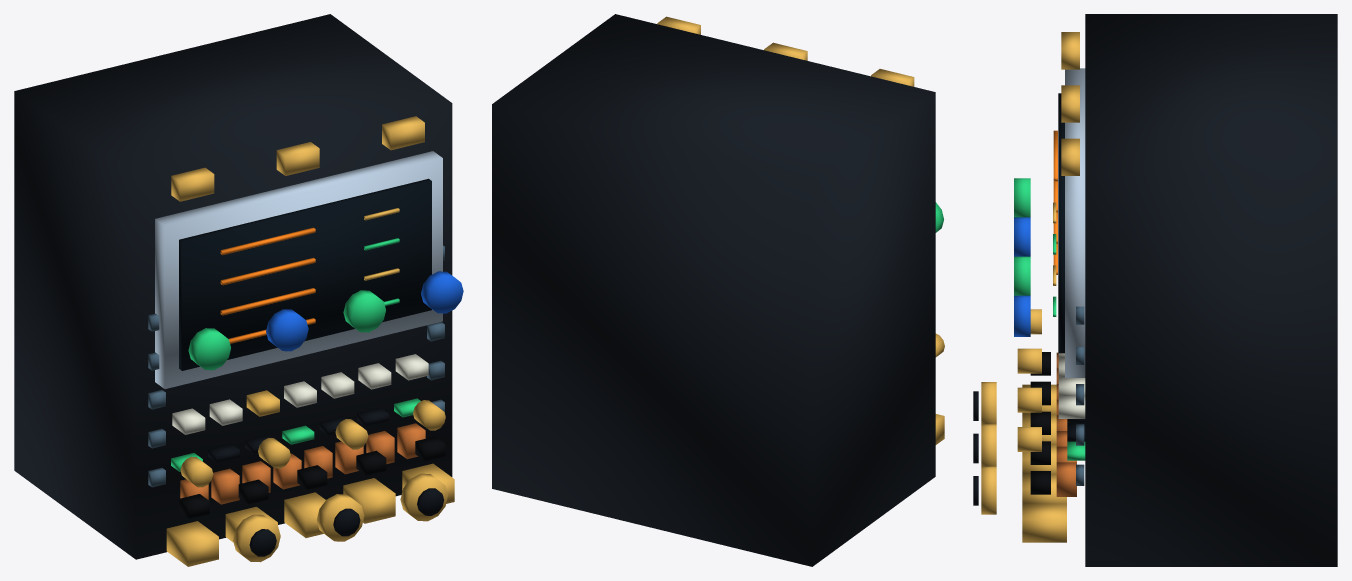
The model's file is 67_L93_VacuumVentAndPurgePanel.fbx.
3 renders of one model, left to right at view 1: azimuth 30°, elevation 25°; view 2: azimuth 150°, elevation 25°; view 3: azimuth 270°, elevation 25°, orthographic. The views are drawn at different scales.
Visible parts, largest first — view 1: L92_VacuumVentAndPurgePanel_Part_0000, L92_VacuumVentAndPurgePanel_Part_0002, L92_VacuumVentAndPurgePanel_Part_0001, L92_VacuumVentAndPurgePanel_Part_0004, L92_VacuumVentAndPurgePanel_Part_0009, L92_VacuumVentAndPurgePanel_Part_0006, L92_VacuumVentAndPurgePanel_Part_0005, L92_VacuumVentAndPurgePanel_Part_0010, L92_VacuumVentAndPurgePanel_Part_0011, L92_VacuumVentAndPurgePanel_Part_0003, L92_VacuumVentAndPurgePanel_Part_0008, L92_VacuumVentAndPurgePanel_Part_0007 (+6 smaller); view 2: L92_VacuumVentAndPurgePanel_Part_0000, L92_VacuumVentAndPurgePanel_Part_0004; view 3: L92_VacuumVentAndPurgePanel_Part_0000, L92_VacuumVentAndPurgePanel_Part_0004, L92_VacuumVentAndPurgePanel_Part_0001, L92_VacuumVentAndPurgePanel_Part_0005, L92_VacuumVentAndPurgePanel_Part_0010, L92_VacuumVentAndPurgePanel_Part_0002, L92_VacuumVentAndPurgePanel_Part_0009, L92_VacuumVentAndPurgePanel_Part_0011, L92_VacuumVentAndPurgePanel_Part_0006, L92_VacuumVentAndPurgePanel_Part_0008, L92_VacuumVentAndPurgePanel_Part_0018, L92_VacuumVentAndPurgePanel_Part_0014 (+2 smaller).
Part boxes in pixels (<box>): L92_VacuumVentAndPurgePanel_Part_0000: <box>14,14,452,559</box>; L92_VacuumVentAndPurgePanel_Part_0002: <box>179,178,431,370</box>; L92_VacuumVentAndPurgePanel_Part_0001: <box>155,151,442,388</box>; L92_VacuumVentAndPurgePanel_Part_0004: <box>166,116,454,566</box>; L92_VacuumVentAndPurgePanel_Part_0009: <box>180,423,425,504</box>; L92_VacuumVentAndPurgePanel_Part_0006: <box>172,354,428,434</box>; L92_VacuumVentAndPurgePanel_Part_0005: <box>171,238,420,471</box>; L92_VacuumVentAndPurgePanel_Part_0010: <box>179,436,445,518</box>; L92_VacuumVentAndPurgePanel_Part_0011: <box>266,271,463,351</box>; L92_VacuumVentAndPurgePanel_Part_0003: <box>220,227,315,343</box>; L92_VacuumVentAndPurgePanel_Part_0008: <box>148,245,444,487</box>; L92_VacuumVentAndPurgePanel_Part_0007: <box>208,407,388,462</box>; L92_VacuumVentAndPurgePanel_Part_0000: <box>492,14,935,566</box>; L92_VacuumVentAndPurgePanel_Part_0004: <box>657,16,944,444</box>; L92_VacuumVentAndPurgePanel_Part_0000: <box>1085,14,1337,566</box>; L92_VacuumVentAndPurgePanel_Part_0004: <box>1017,32,1079,542</box>; L92_VacuumVentAndPurgePanel_Part_0001: <box>1065,68,1085,377</box>; L92_VacuumVentAndPurgePanel_Part_0005: <box>1014,178,1085,460</box>; L92_VacuumVentAndPurgePanel_Part_0010: <box>1030,352,1050,494</box>; L92_VacuumVentAndPurgePanel_Part_0002: <box>1058,93,1064,353</box>; L92_VacuumVentAndPurgePanel_Part_0009: <box>1056,352,1076,496</box>; L92_VacuumVentAndPurgePanel_Part_0011: <box>1014,217,1030,336</box>; L92_VacuumVentAndPurgePanel_Part_0006: <box>1058,353,1085,418</box>; L92_VacuumVentAndPurgePanel_Part_0008: <box>1076,306,1084,485</box>; L92_VacuumVentAndPurgePanel_Part_0018: <box>981,466,996,514</box>; L92_VacuumVentAndPurgePanel_Part_0014: <box>981,382,996,424</box>.
Bounding box in the file's own units: 102 × 117 × 98.2.
